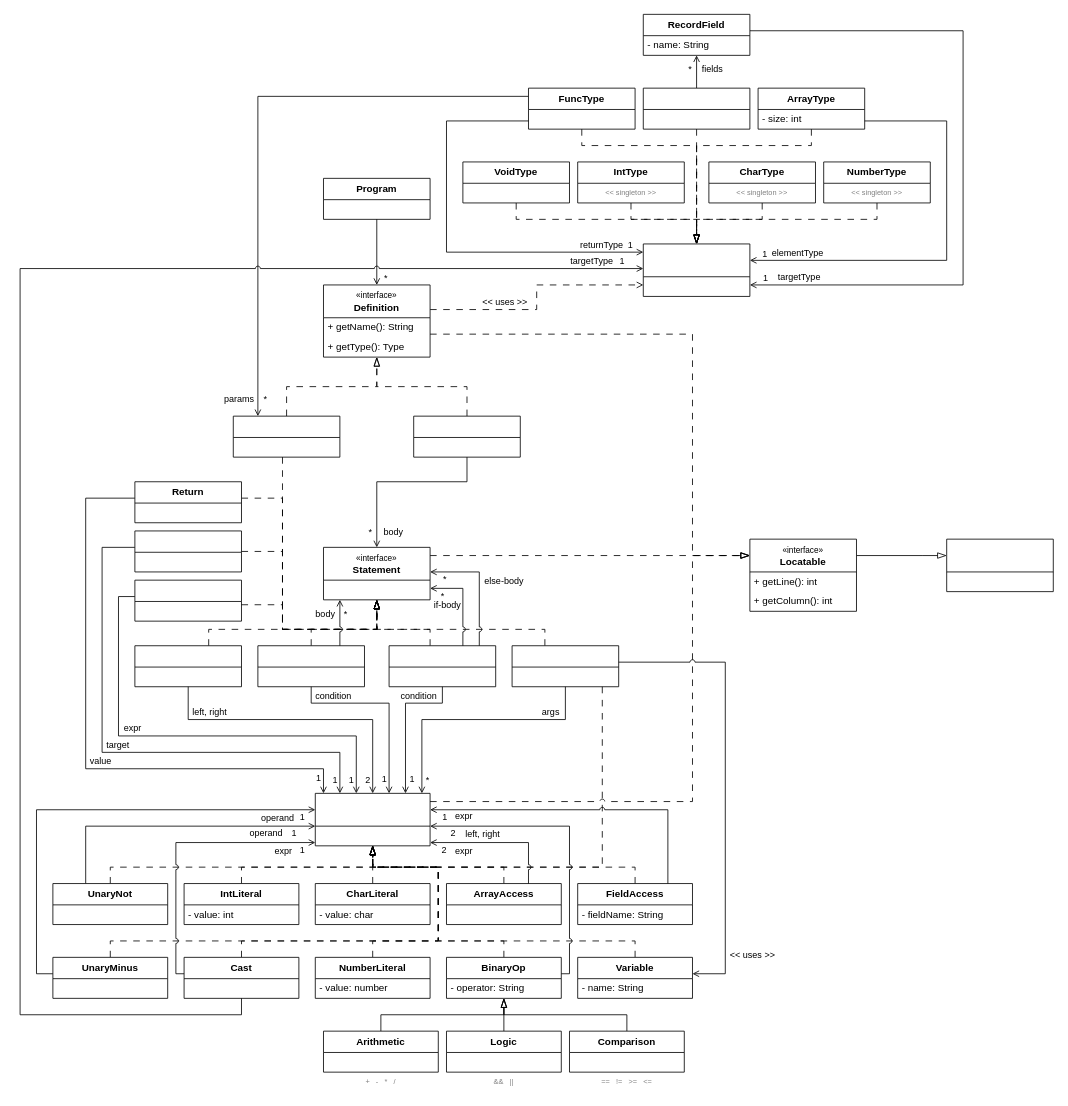
This 1068x1106 diagram has some shape labels left out. The shapes that lost their labels are listed below. From the top down, each one's centre as x and y in pixels, then its label:
the point at 696,108: RecordType
the point at 696,269: « interface » Type
the point at 286,436: VarDef
the point at 466,436: FuncDef
the point at 187,551: Input
the point at 999,565: « interface » ASTNode
the point at 187,600: Log
the point at 187,666: Assignment
the point at 310,666: While
the point at 442,666: If-Else
the point at 565,666: FuncCall
the point at 372,819: « interface » Expression
